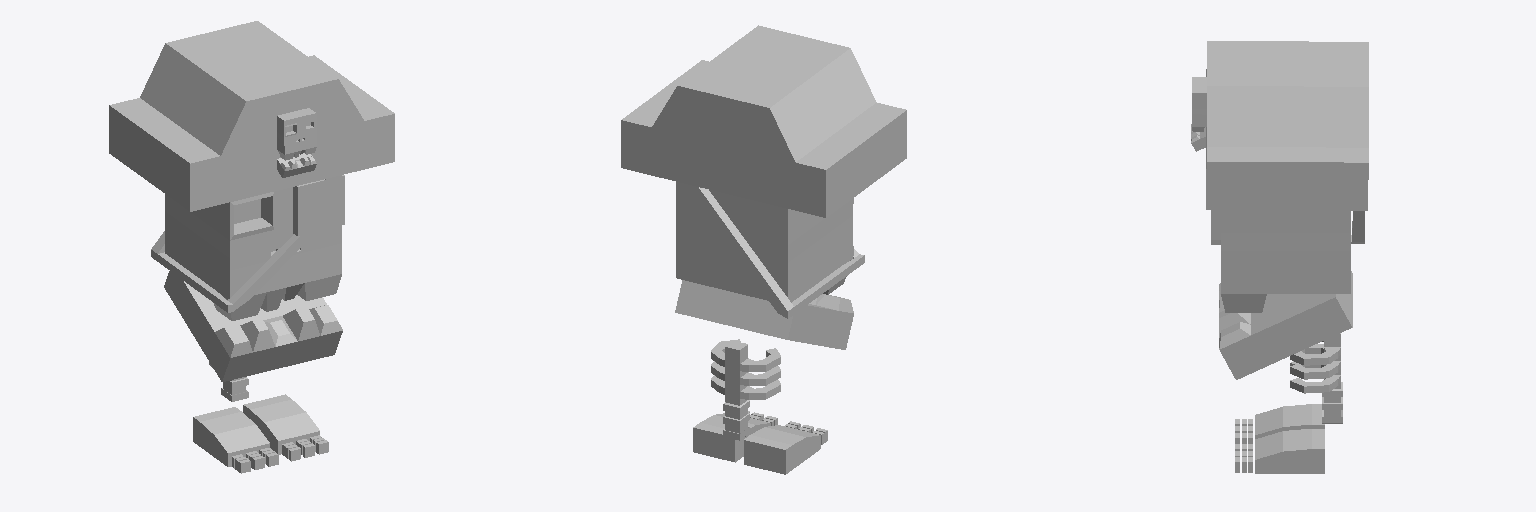
The model's file is bonesmelee.obj.
The picture shows the model from 3 angles: view 1: azimuth 30°, elevation 25°; view 2: azimuth 150°, elevation 25°; view 3: azimuth 270°, elevation 25°; orthographic projection.
Visible parts, largest first — view 1: Hat_Cube.006, Cube, Cube.001, Cube.003_Cube.002, Cube.012_Cube.014, Cube.002_Cube.017, Cube.004_Cube.005; view 2: Hat_Cube.006, Cube, Cube.001, Cube.004_Cube.005, Cube.003_Cube.002, Cube.012_Cube.014, Cube.002_Cube.017; view 3: Hat_Cube.006, Cube, Cube.001, Cube.002_Cube.017, Cube.004_Cube.005, Cube.012_Cube.014, Cube.003_Cube.002.
Boxes of the visible parts, x1=… form: Hat_Cube.006: x1=109, y1=21, x2=394, y2=211; Cube: x1=165, y1=187, x2=341, y2=320; Cube.001: x1=164, y1=271, x2=342, y2=381; Cube.003_Cube.002: x1=151, y1=175, x2=344, y2=312; Cube.012_Cube.014: x1=193, y1=407, x2=278, y2=473; Cube.002_Cube.017: x1=243, y1=394, x2=328, y2=461; Cube.004_Cube.005: x1=209, y1=362, x2=248, y2=401; Hat_Cube.006: x1=621, y1=25, x2=906, y2=217; Cube: x1=676, y1=182, x2=853, y2=302; Cube.001: x1=675, y1=280, x2=853, y2=349; Cube.004_Cube.005: x1=711, y1=339, x2=780, y2=440; Cube.003_Cube.002: x1=683, y1=183, x2=864, y2=318; Cube.012_Cube.014: x1=744, y1=421, x2=827, y2=474; Cube.002_Cube.017: x1=693, y1=411, x2=777, y2=462; Hat_Cube.006: x1=1191, y1=41, x2=1368, y2=210; Cube: x1=1221, y1=210, x2=1350, y2=312; Cube.001: x1=1219, y1=271, x2=1352, y2=379; Cube.002_Cube.017: x1=1235, y1=429, x2=1324, y2=473; Cube.004_Cube.005: x1=1290, y1=333, x2=1342, y2=423; Cube.012_Cube.014: x1=1235, y1=404, x2=1324, y2=443; Cube.003_Cube.002: x1=1211, y1=210, x2=1364, y2=244.
Bounding box in the file's own units: 3.64 × 6.53 × 2.73.